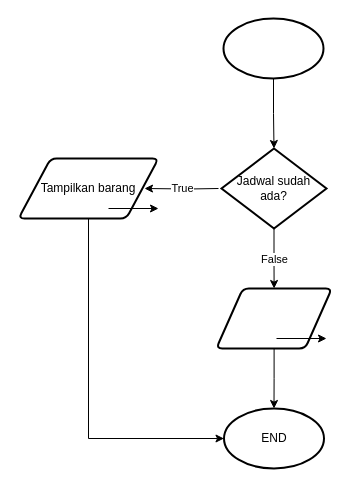
Image size: 352x486. Some labels were removed from this diagram. Here are the shapes that lost their labels. From the top down, the box of each, then its label:
(222, 17, 324, 79): TAMPILKAN DATA
(215, 287, 332, 349): Jadwal kosong
